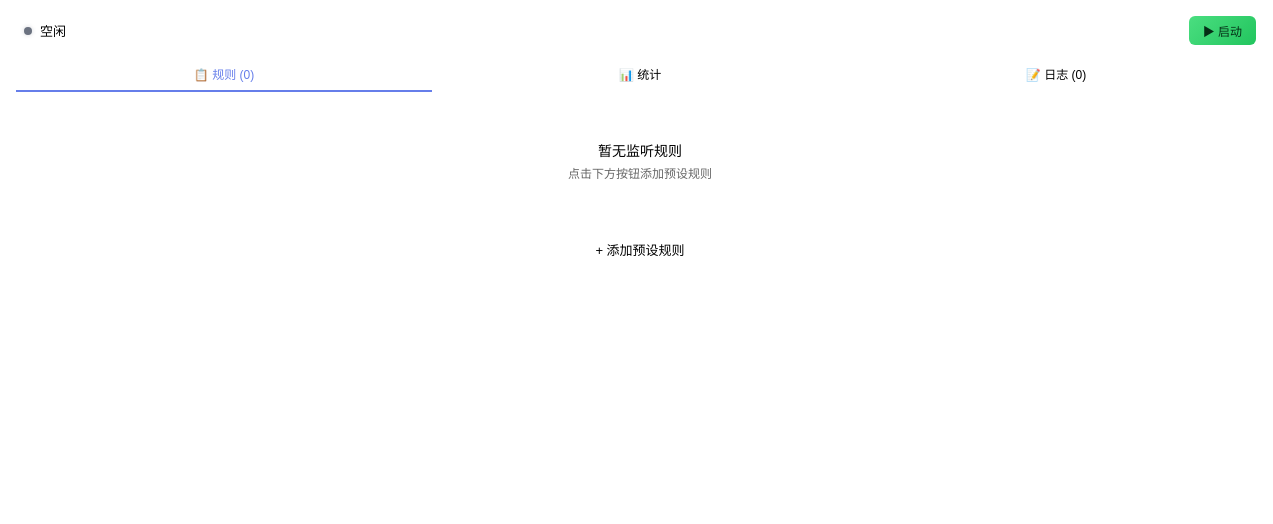
WatchPanel › 预设规则加载 › 点击添加预设规则按钮应该显示预设列表
The image size is (1273, 524).
Click the button "+ 添加预设规则" at (640, 250), box [24,230,1256,269]
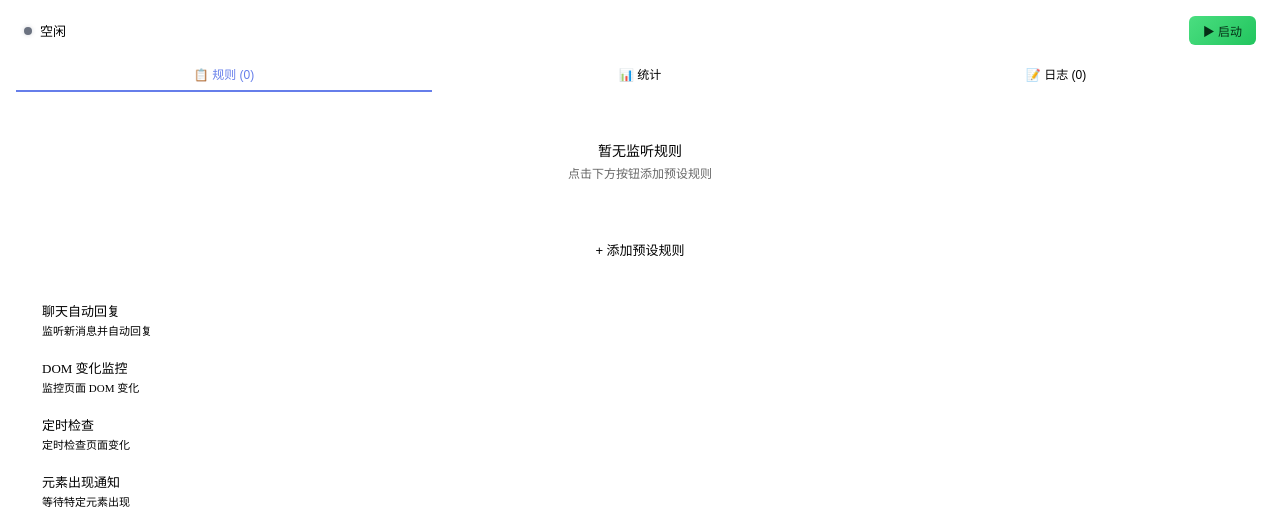
Check: the text "聊天自动回复" is shown, box [42,304,120,319]
Check: the text "DOM 变化监控" is shown, box [42,361,128,376]
Check: the text "定时检查" is shown, box [42,418,94,433]
